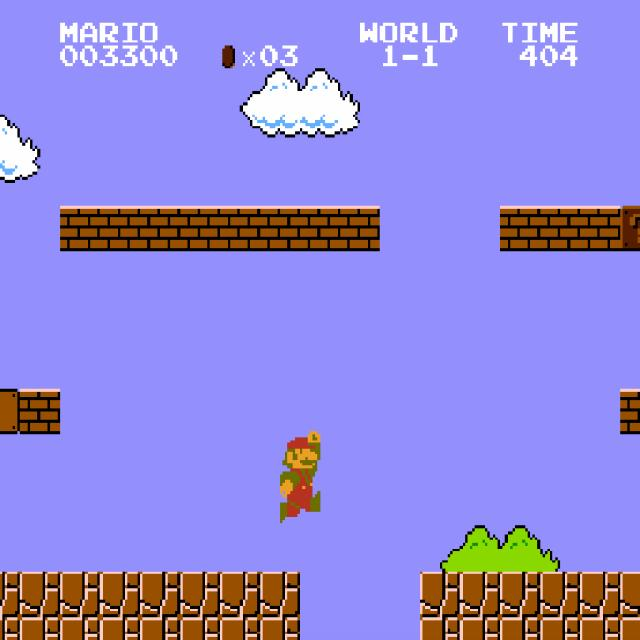big_mario: (277, 428, 320, 522)
brick_block: (20, 389, 60, 434), (60, 206, 100, 251), (100, 206, 140, 251), (140, 206, 180, 251), (180, 206, 220, 251), (220, 206, 260, 251), (260, 206, 300, 251), (300, 206, 340, 251), (340, 206, 380, 251), (500, 206, 540, 251), (540, 206, 580, 251), (580, 206, 620, 251), (620, 389, 640, 434)
empty_block: (0, 389, 20, 434)
mystery_block: (620, 206, 640, 251)
undestructible_block: (20, 572, 60, 617), (60, 572, 100, 617), (100, 572, 140, 617), (140, 572, 180, 617), (180, 572, 220, 617), (220, 572, 260, 617), (260, 572, 300, 617), (420, 572, 460, 617), (460, 572, 500, 617), (500, 572, 540, 617), (540, 572, 580, 617), (580, 572, 620, 617), (20, 617, 60, 640), (60, 617, 100, 640), (100, 617, 140, 640), (140, 617, 180, 640), (180, 617, 220, 640), (220, 617, 260, 640), (260, 617, 300, 640), (420, 617, 460, 640), (460, 617, 500, 640), (500, 617, 540, 640), (540, 617, 580, 640), (580, 617, 620, 640), (0, 572, 20, 617), (620, 572, 640, 617), (0, 617, 20, 640), (620, 617, 640, 640)
